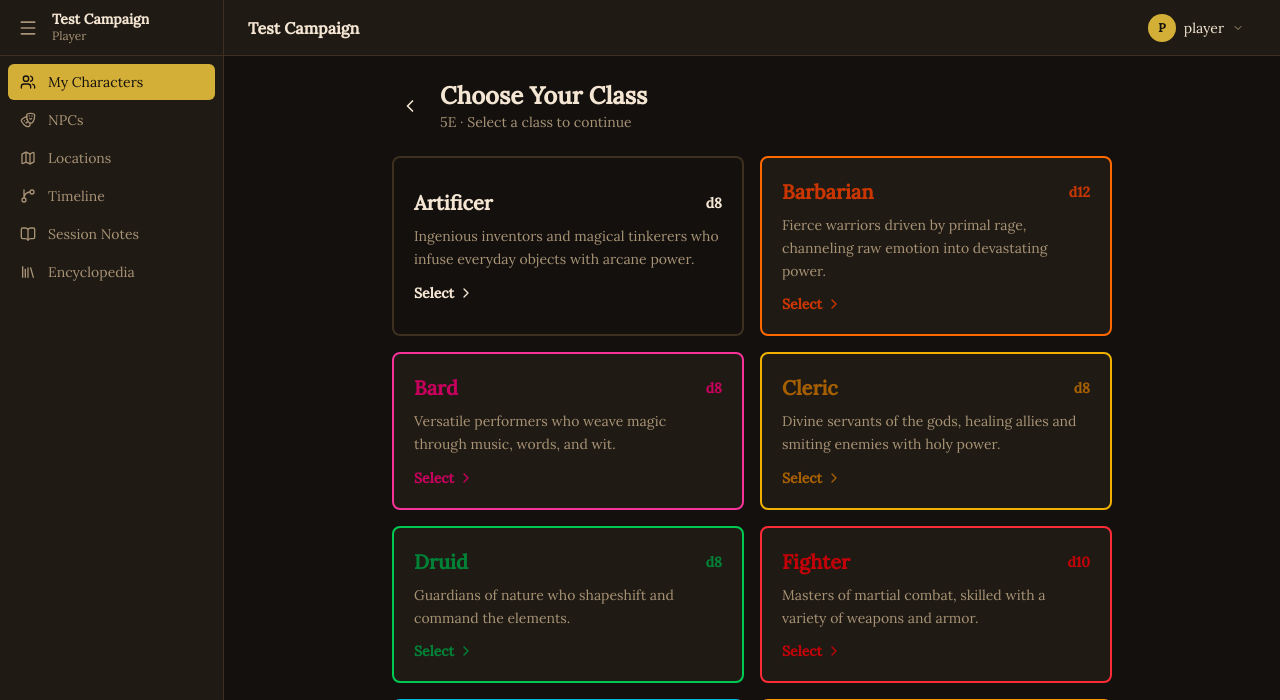
Scenario: CharacterCreate › advances to identity step when a class is selected
Click the text "Fighter" at x=816, y=562, box [782,548,850,576]
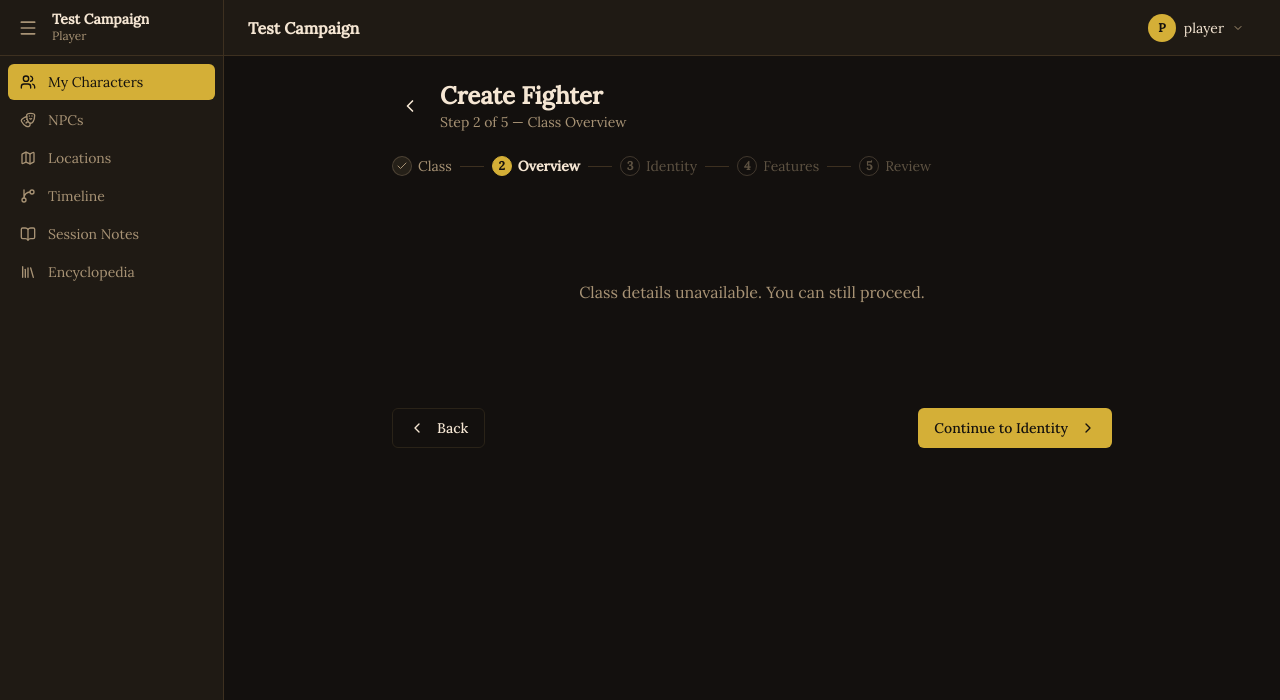
Expected: the button with test id "overview-next" is shown
Click the button with test id "overview-next" at x=1015, y=428, box [918,408,1112,448]
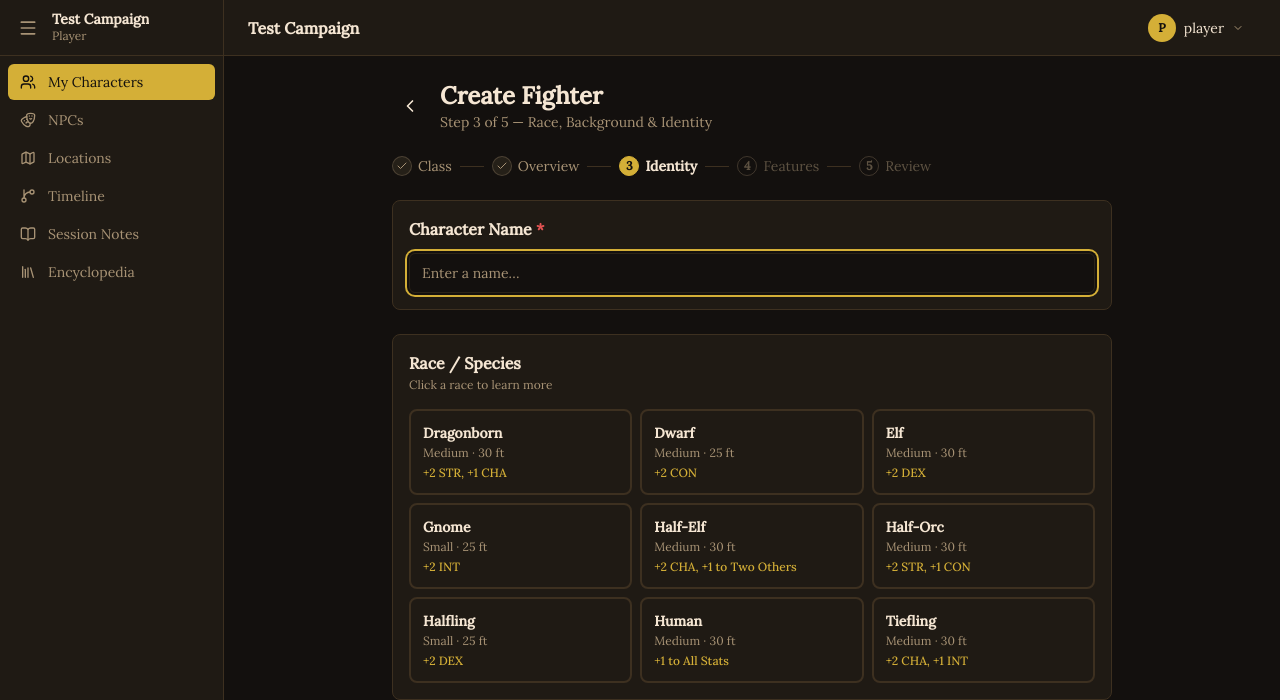
Expected: the heading "Create Fighter" is shown, [440,80,603,111]
Expected: the text "Step 3 of 5 — Race, Background & Identity" is shown, [440,113,712,131]
Expected: the field with placeholder "Enter a name…" is shown, [409,253,1095,293]
